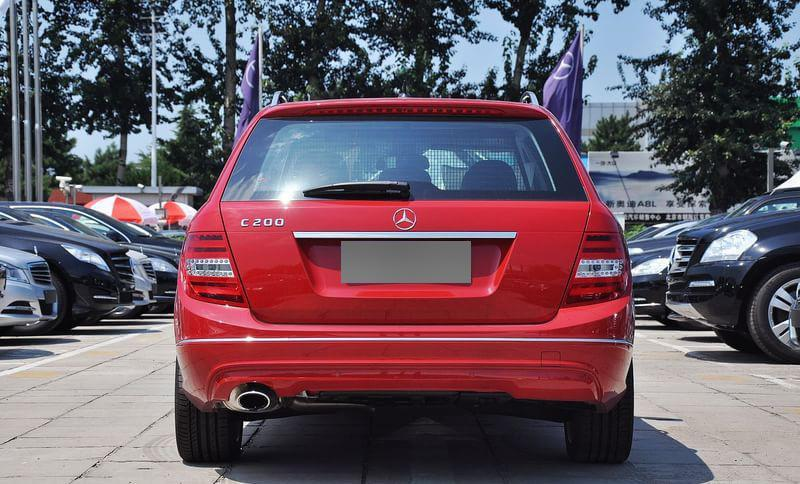Wagon: (172, 88, 637, 464)
